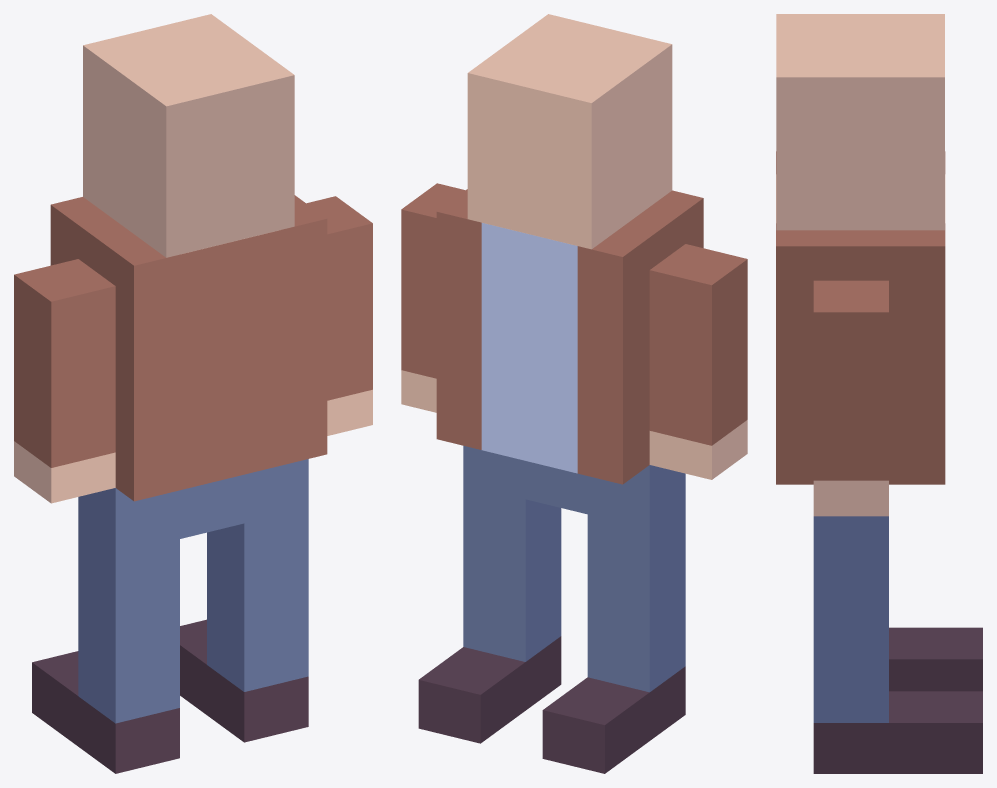
File: default-person.glb
3 renders of one model, left to right at view 1: azimuth 30°, elevation 25°; view 2: azimuth 150°, elevation 25°; view 3: azimuth 270°, elevation 25°, orthographic. The views are drawn at different scales.
Visible parts, largest first — view 1: UNIT.001; view 2: UNIT.001; view 3: UNIT.001.
Boxes of the visible parts, x1=… form: UNIT.001: x1=14, y1=14, x2=372, y2=773; UNIT.001: x1=401, y1=14, x2=747, y2=773; UNIT.001: x1=776, y1=14, x2=982, y2=773.
Bounding box in the file's own units: 0.7001 × 1.4 × 0.3852.
1 material, 1 textured.
